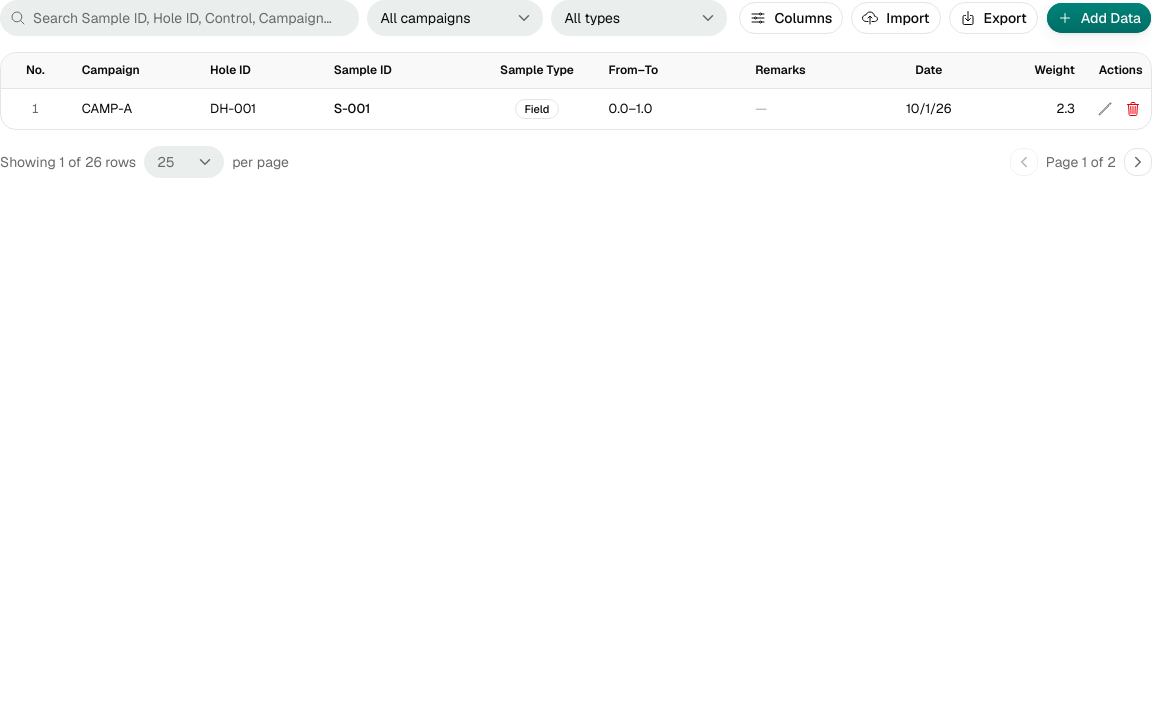
Test: a sample's detail › hands Delete over to the delete dialog
Expected: the text "S-001" is shown, [334,100,370,117]
Click the row "1 CAMP-A DH-001 S-001 Field 0.0–1.0 — 10/1/26 2.3" at (107, 109), box [1,88,1151,129]
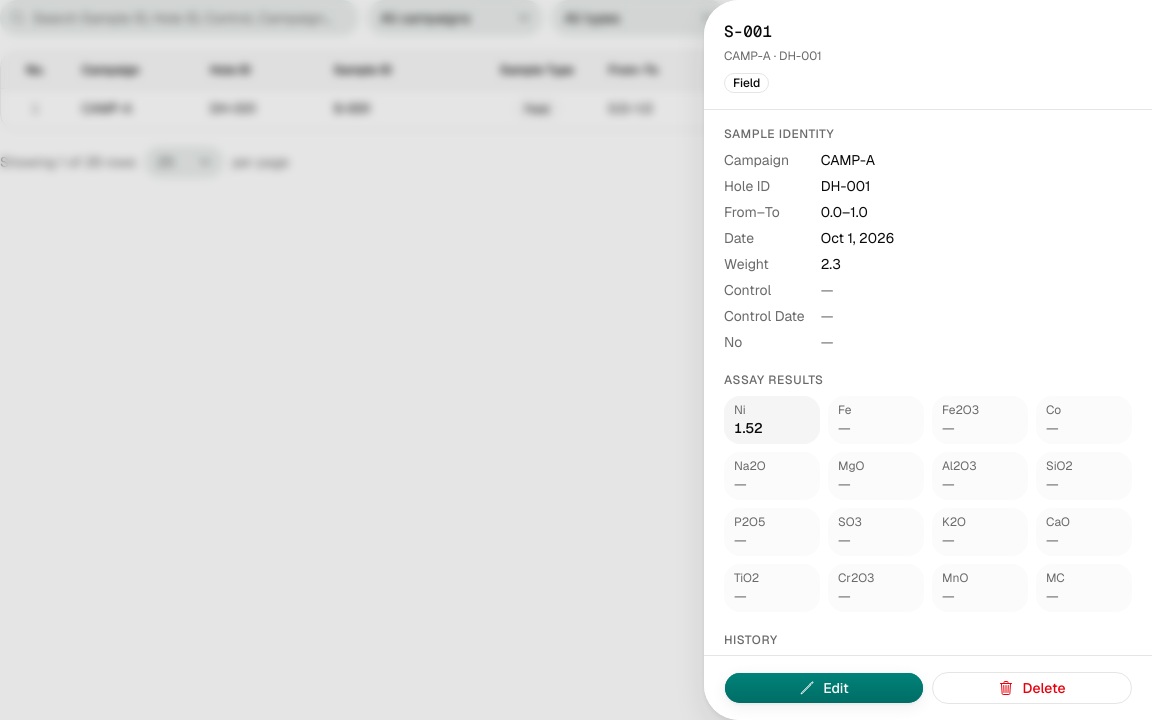
Click the button "Delete" at (1032, 688), box [932,672,1132,704]
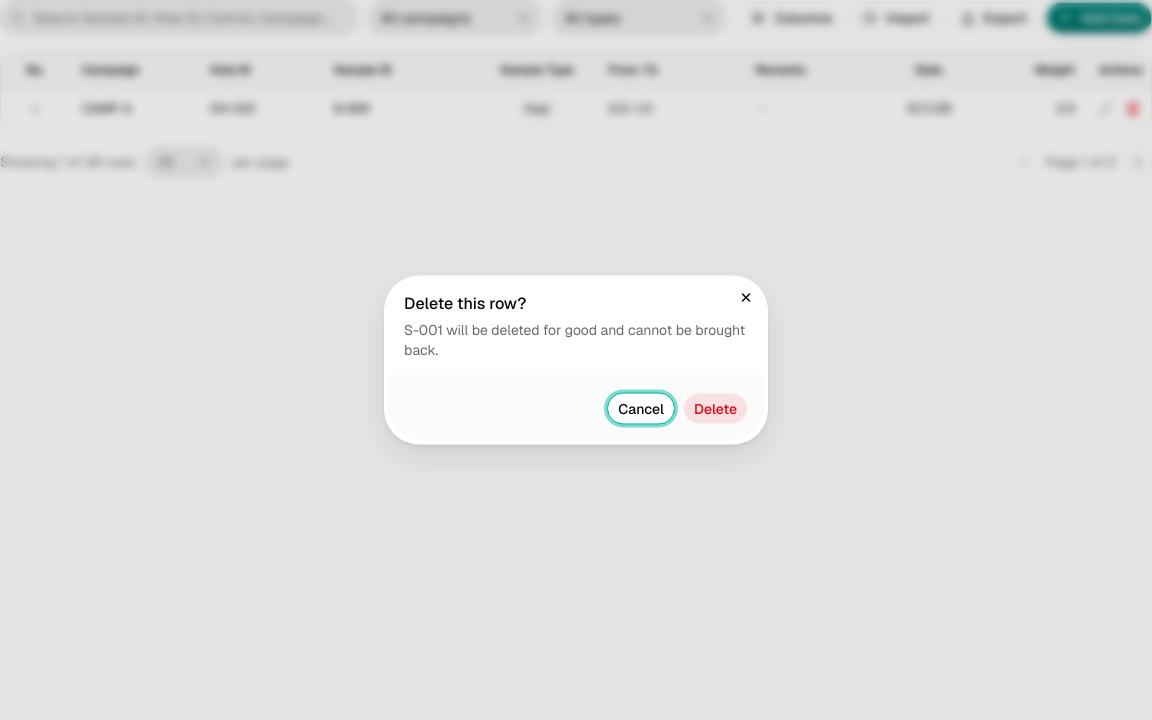
Result: the heading "Delete this row?" is shown at [404,292,526,314]
